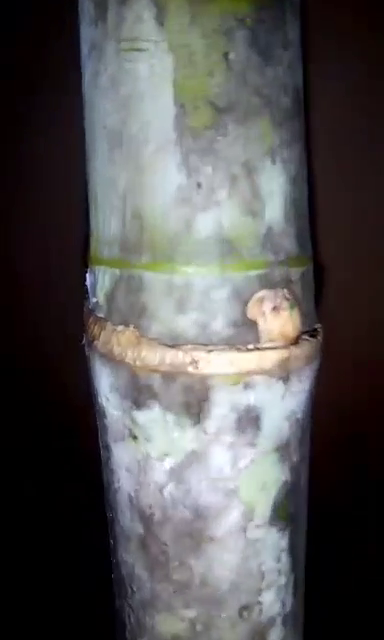cane eye: (240, 281, 308, 355)
